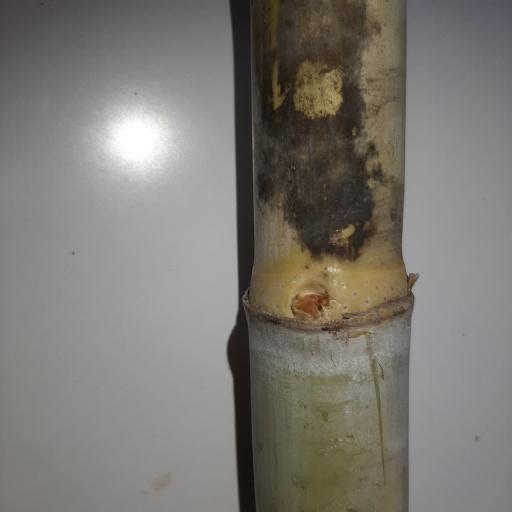Damage_Bud: (289, 286, 332, 319)
